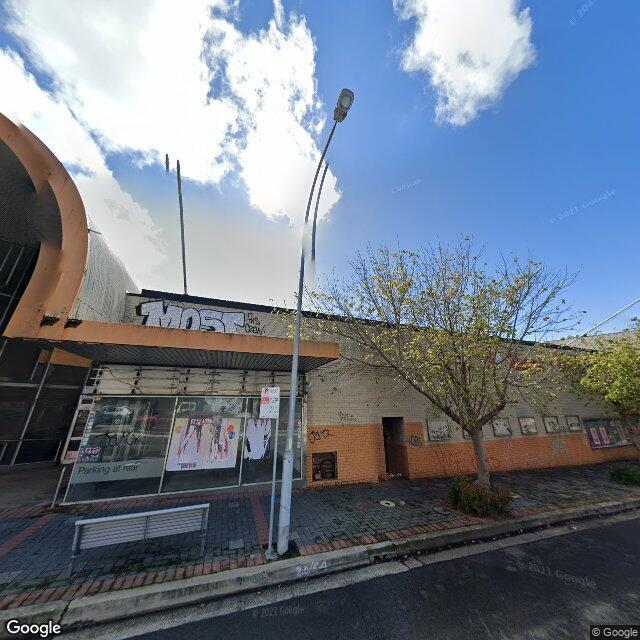steel-pole: (276, 249, 306, 556)
streetlight: (300, 87, 355, 261)
